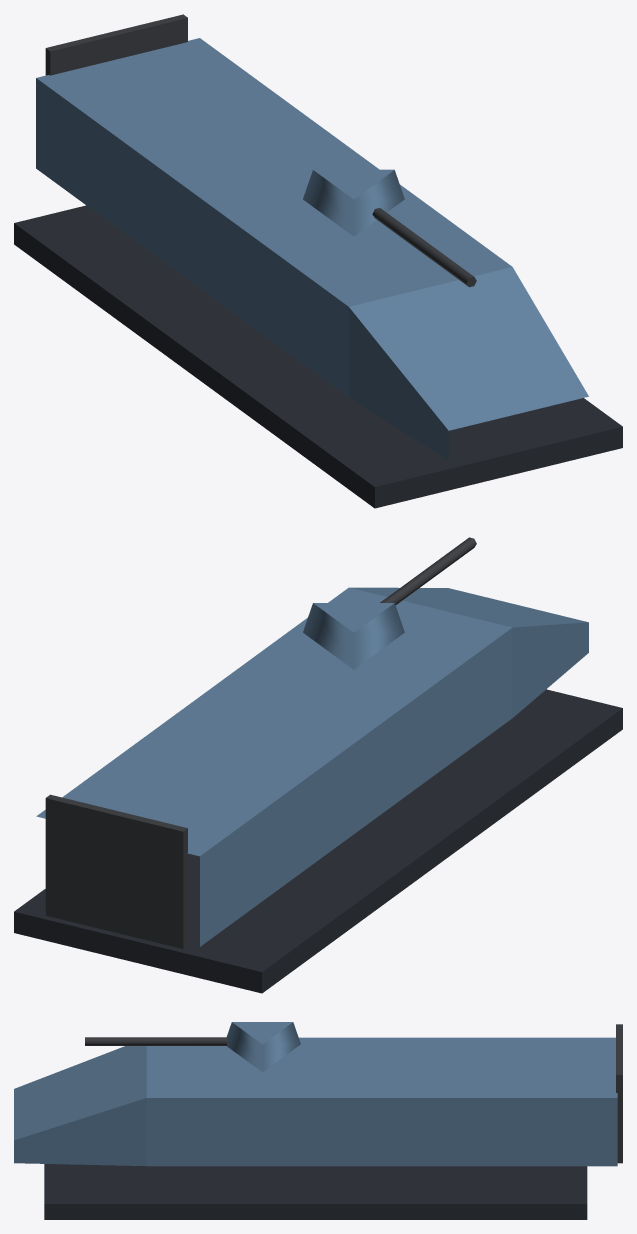
Rendered from veh_ground_apc_a10_lod2.glb.
3 views of the same model, one above another, from view 1: azimuth 30°, elevation 25°; view 2: azimuth 150°, elevation 25°; view 3: azimuth 270°, elevation 25° (orthographic). The views are drawn at different scales.
Visible parts, largest first — view 1: body, gun, ramp; view 2: body, ramp, gun; view 3: body, gun, ramp.
Part boxes in pixels (bbox=[...]): body: bbox=[14, 38, 622, 508]; gun: bbox=[303, 169, 476, 287]; ramp: bbox=[45, 14, 187, 75]; body: bbox=[14, 587, 622, 993]; ramp: bbox=[45, 794, 187, 949]; gun: bbox=[303, 537, 476, 669]; body: bbox=[14, 1037, 617, 1219]; gun: bbox=[85, 1022, 300, 1072]; ramp: bbox=[616, 1024, 622, 1163].
Size of the model in its own units: 2.43 by 1.84 by 6.86.
